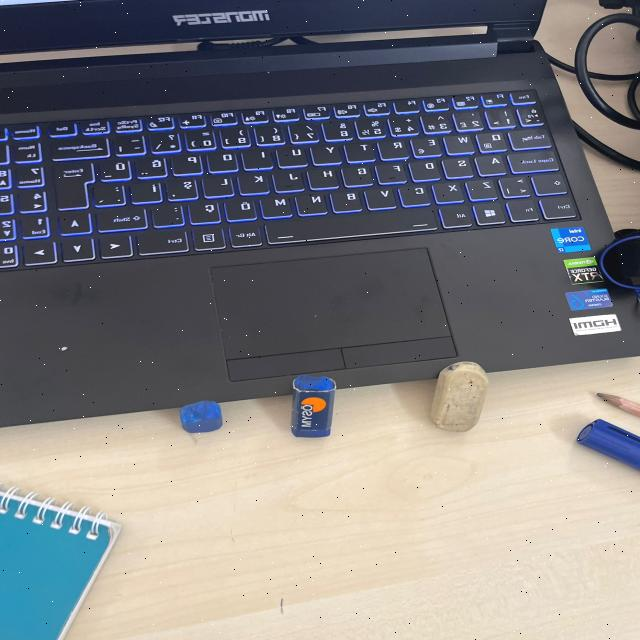eraser: (425, 357, 503, 443), (281, 372, 344, 444), (160, 396, 225, 440)
pencil: (587, 381, 640, 427)
